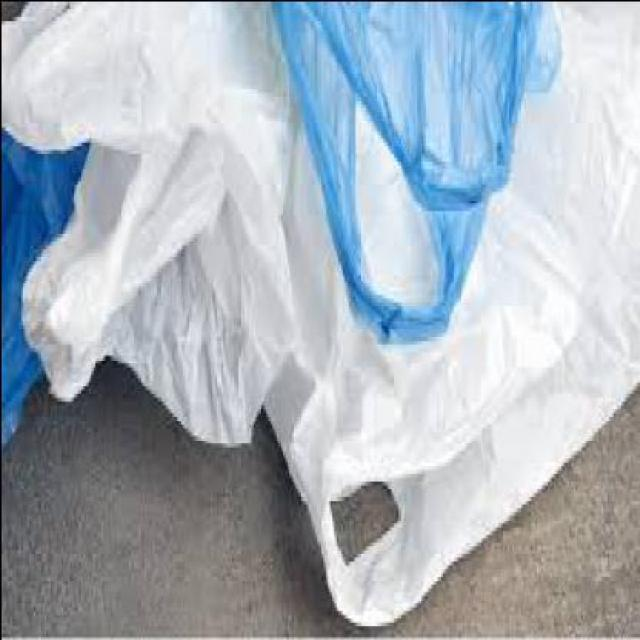PLASTIC: (262, 2, 638, 624), (2, 2, 296, 443), (258, 2, 560, 340), (2, 117, 89, 446)
